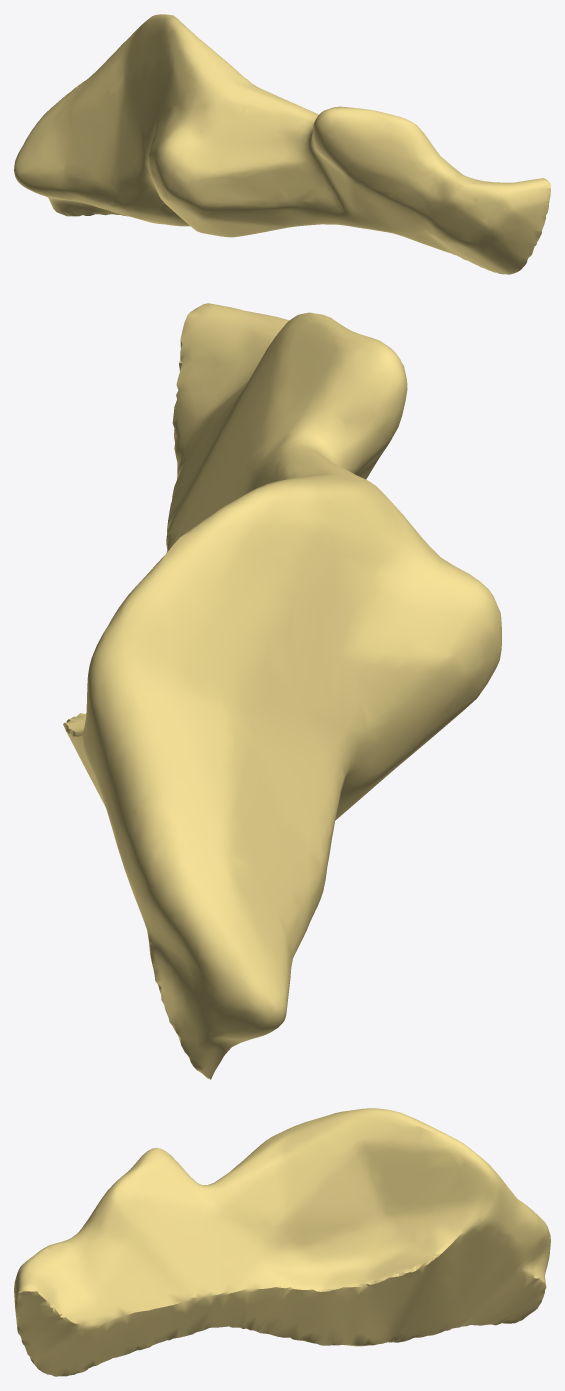
File: fma72756_fj7466m.glb
The picture shows the model from 3 angles, top to bottom: view 1: azimuth 30°, elevation 25°; view 2: azimuth 150°, elevation 25°; view 3: azimuth 270°, elevation 25°; orthographic projection. The views are drawn at different scales.
Parts seen in each view (by area): view 1: FMA72756_FJ7466M; view 2: FMA72756_FJ7466M; view 3: FMA72756_FJ7466M.
Part boxes in pixels (x1,y1,x2,y2): FMA72756_FJ7466M: (14, 14, 550, 274); FMA72756_FJ7466M: (63, 303, 501, 1079); FMA72756_FJ7466M: (14, 1108, 550, 1376).
Size of the model in its own units: 0.0291 by 0.0222 by 0.0457.
